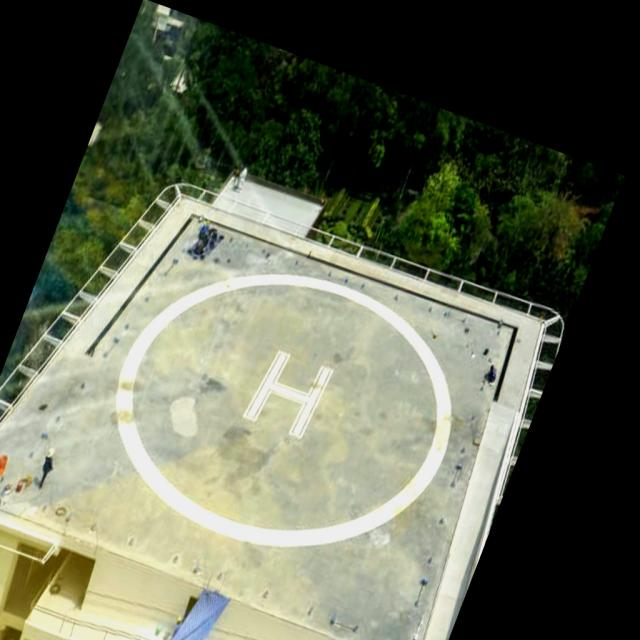helipad: (110, 268, 458, 554)
